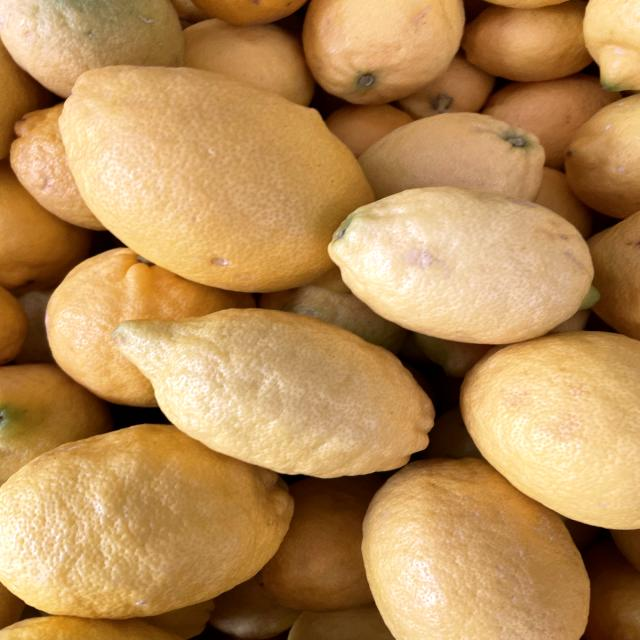lemon: (53, 56, 376, 297), (0, 420, 333, 628), (100, 297, 448, 481), (320, 171, 613, 348), (354, 435, 598, 640)
